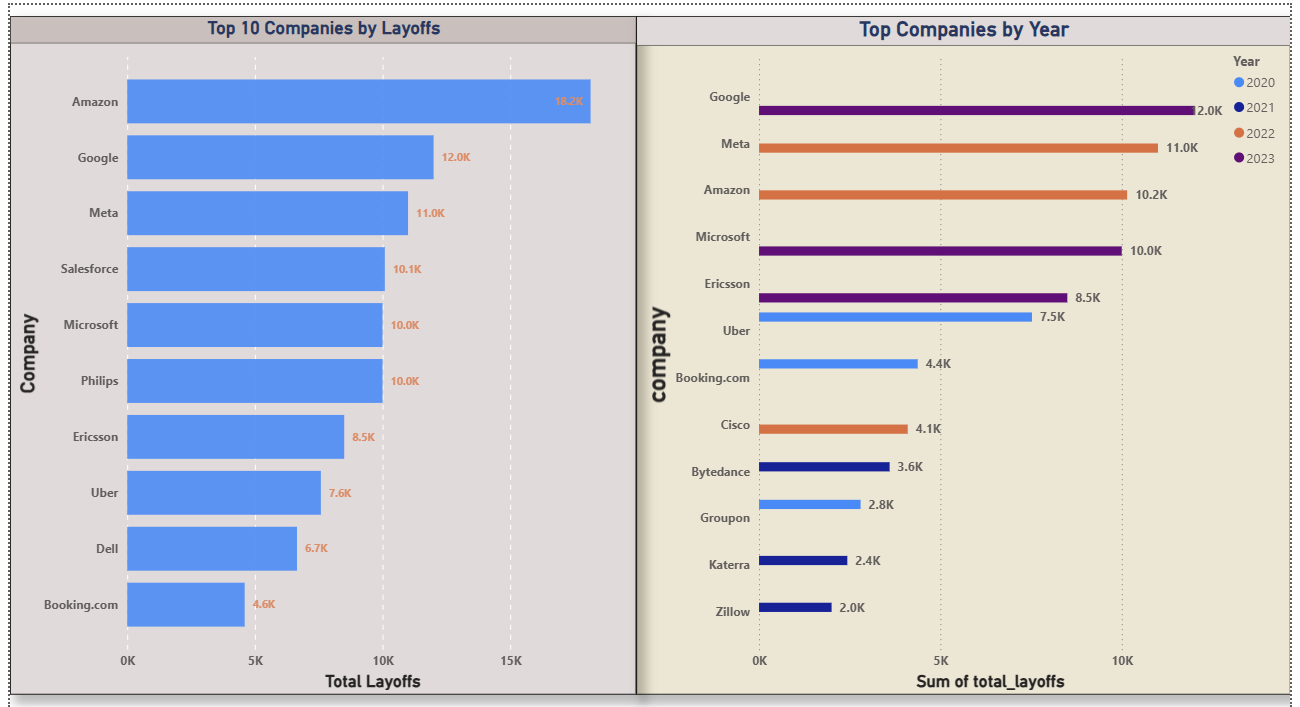

This screenshot's page, from the dashboard's own definition file:
{"tool":"powerbi","page":{"name":" Company Analysis","canvas":[1280,720],"ordinal":1},"visuals":[{"type":"clusteredBarChart","title":"Top 10 Companies by Layoffs","fields":{"Category":["top_10_companies.company"],"Y":["Sum(top_10_companies.total_layoffs)"]},"box":[0,11.2,626.2,678.8],"z":0},{"type":"clusteredBarChart","title":" Top Companies by Year","fields":{"Category":["top_companies_by_year.company"],"Y":["Sum(top_companies_by_year.total_layoffs)"],"Series":["top_companies_by_year.year"]},"box":[626.1,11,654.2,678.7],"z":1000}]}

Visuals, with their boxes on the page's 1280x720 design canvas (x1, y1, x2, y2). These are canvas units, not pixel positions in the 1300x707 screenshot, which may show the page scaled, cropped or inside an application window:
"Top 10 Companies by Layoffs" clusteredBarChart: left=0, top=11, right=626, bottom=690
" Top Companies by Year" clusteredBarChart: left=626, top=11, right=1280, bottom=690
